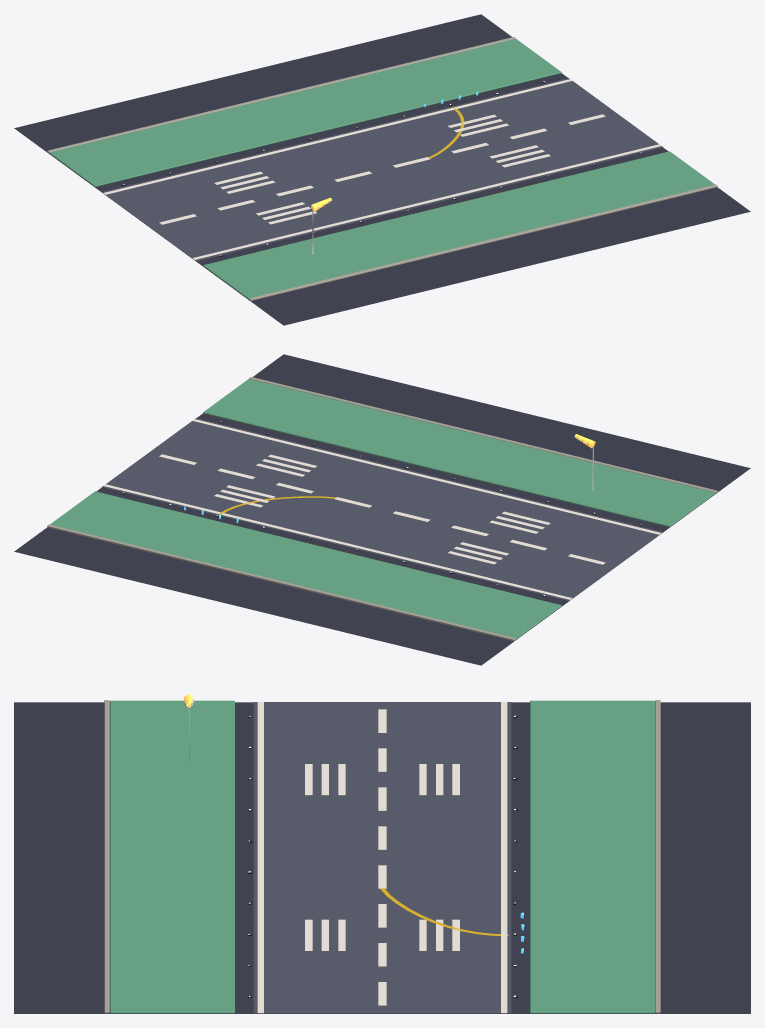
The model's file is tile_runway.glb.
3 renders of one model, top to bottom at view 1: azimuth 30°, elevation 25°; view 2: azimuth 150°, elevation 25°; view 3: azimuth 270°, elevation 25°, orthographic. The views are drawn at different scales.
Visible parts, largest first — view 1: tile_runway; view 2: tile_runway; view 3: tile_runway.
Part boxes in pixels (x1,y1,x2,y2): tile_runway: (14, 14, 750, 325); tile_runway: (14, 354, 750, 665); tile_runway: (14, 694, 750, 1013).
Bounding box in the file's own units: 40 × 4.39 × 40.
Materials: 1 (1 with a texture image).
